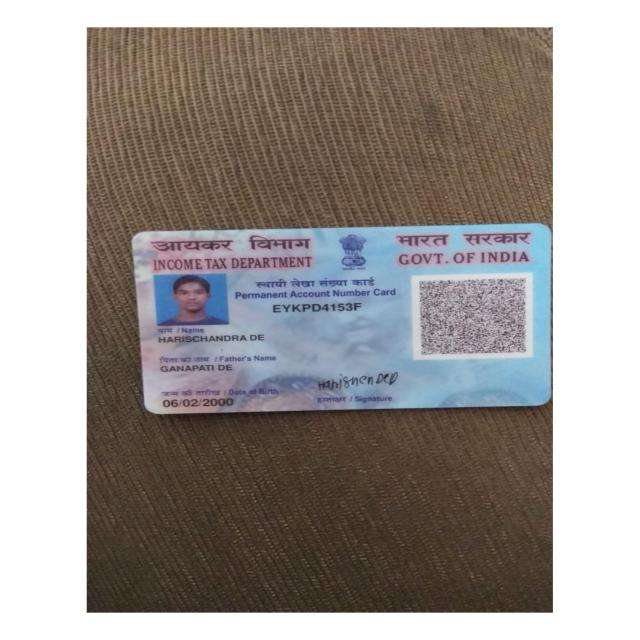pan_card: (136, 228, 544, 411)
